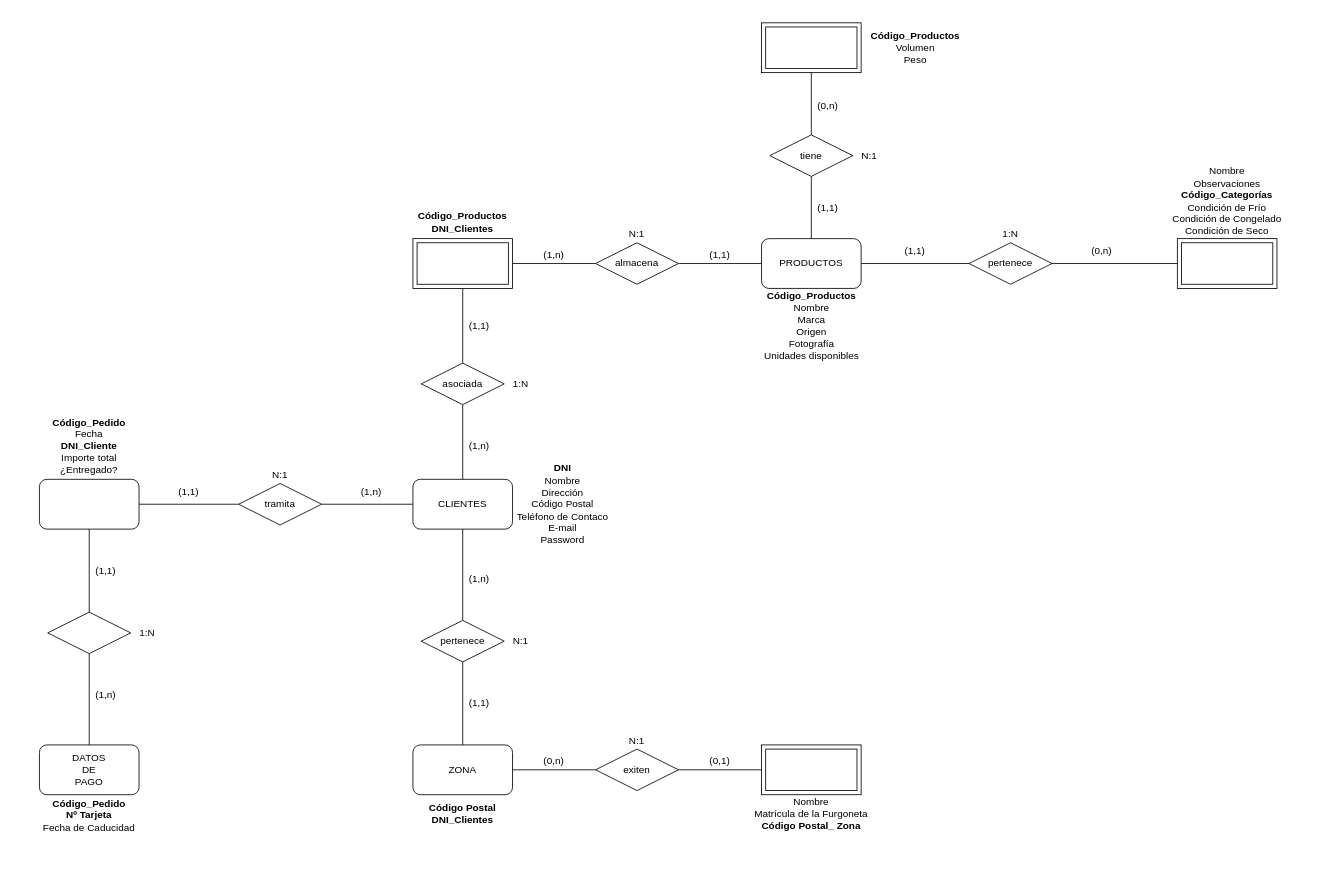
Some shapes in this 1328 by 875 pixel diagram are drawn without their labels. Here are the shapes that lost their labels. From the top down, the centre of each, then its label:
At (811,47): "DIMENSIONES".
At (462,263): "CESTA DE LA COMPRA".
At (1227,263): "CATEGORÍAS".
At (89,503): "PEDIDO".
At (89,632): "corresponde".
At (811,769): "REPARTIDORES".
